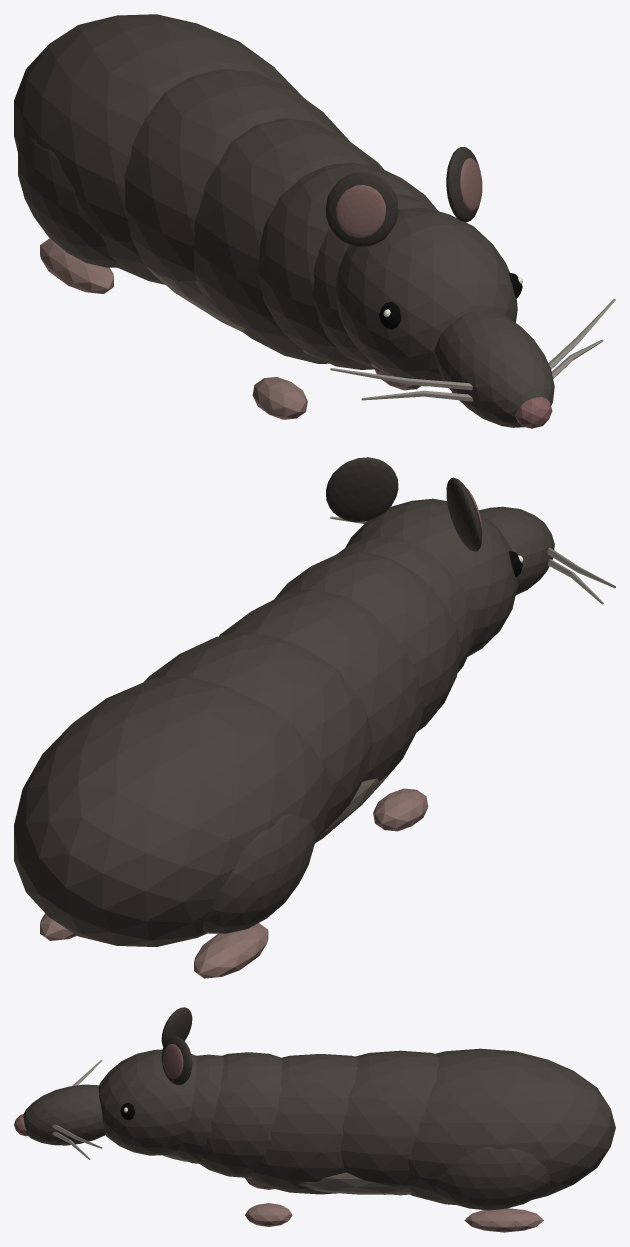
The model's file is SprigBody.obj.
The picture shows the model from 3 angles, top to bottom: view 1: azimuth 30°, elevation 25°; view 2: azimuth 150°, elevation 25°; view 3: azimuth 270°, elevation 25°; orthographic projection. The views are drawn at different scales.
Visible parts, largest first — view 1: Fur, Paws, Ear, EarInner, Whiskers, Belly, Nose, Eyes; view 2: Fur, Ear, Paws, Whiskers, Belly; view 3: Fur, Paws, Belly, Ear, EarInner, Whiskers.
Boxes of the visible parts, <box> form: Fur: <box>14,14,554,427</box>; Paws: <box>40,238,421,419</box>; Ear: <box>326,147,480,246</box>; EarInner: <box>336,158,482,237</box>; Whiskers: <box>330,298,615,401</box>; Belly: <box>147,266,385,372</box>; Nose: <box>515,397,552,428</box>; Eyes: <box>379,273,522,329</box>; Fur: <box>14,498,554,946</box>; Ear: <box>326,457,481,551</box>; Paws: <box>40,788,428,978</box>; Whiskers: <box>330,516,615,604</box>; Belly: <box>316,774,387,842</box>; Fur: <box>23,1048,615,1210</box>; Paws: <box>245,1178,543,1232</box>; Belly: <box>163,1152,411,1194</box>; Ear: <box>161,1007,192,1085</box>; EarInner: <box>163,1044,183,1078</box>; Whiskers: <box>52,1060,102,1159</box>.
Bounding box in the file's own units: 0.5221 × 0.5074 × 1.51.
